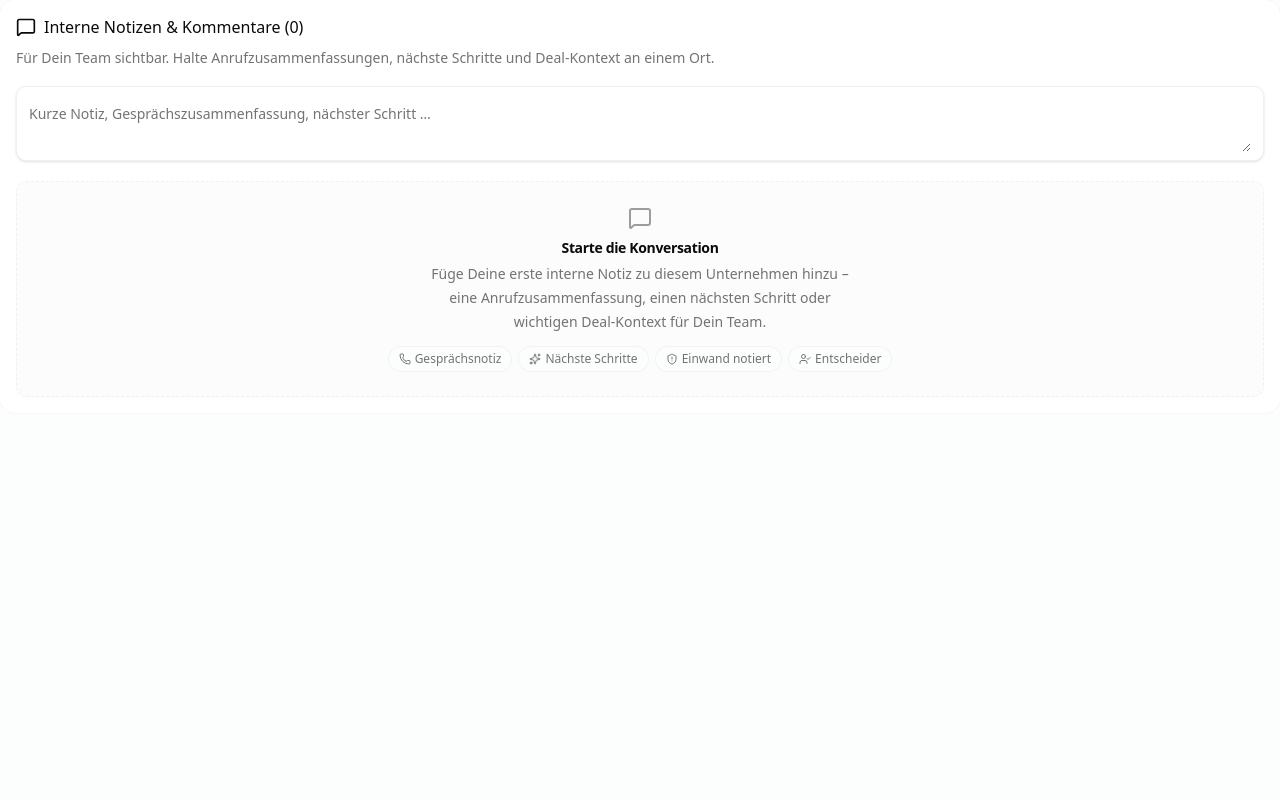
Test case: CompanyCommentsCard › shows new comment in list after successful submit (empty thread)
In the text box with test id "company-comment-composer-body": x=640, y=124 [29,96,1251,152], type "Fresh"
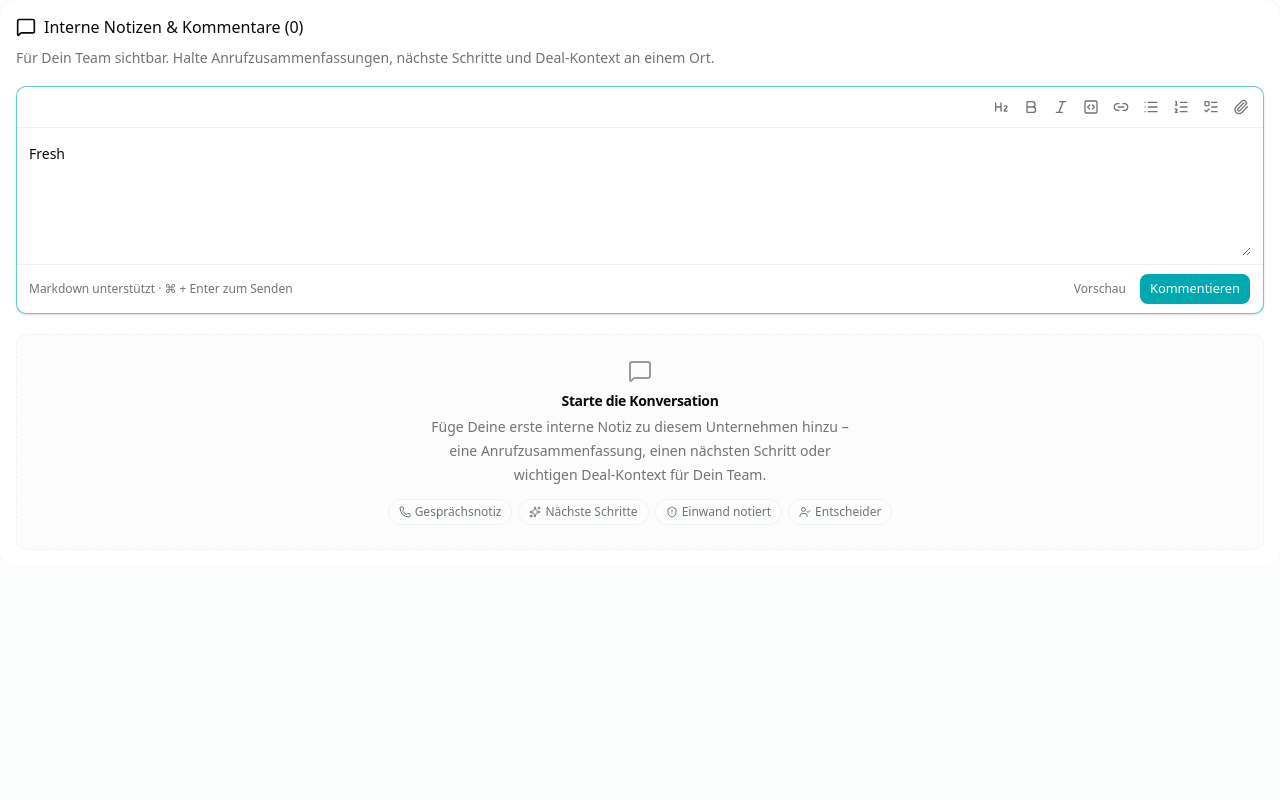
expect the button "Kommentieren" is shown: met
Click the button "Kommentieren": x=1195, y=289 [1139,273,1251,305]
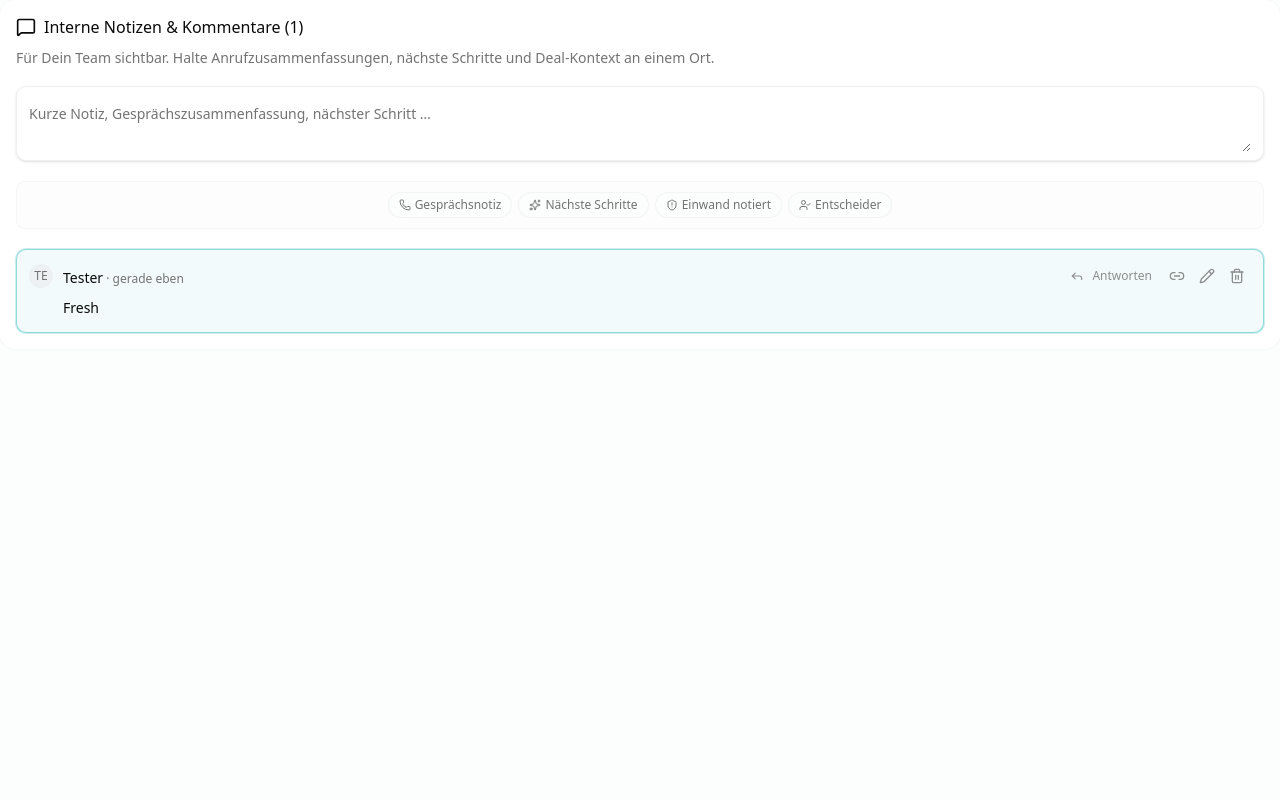
expect the text "Fresh" is shown: met, box [63,298,99,317]
